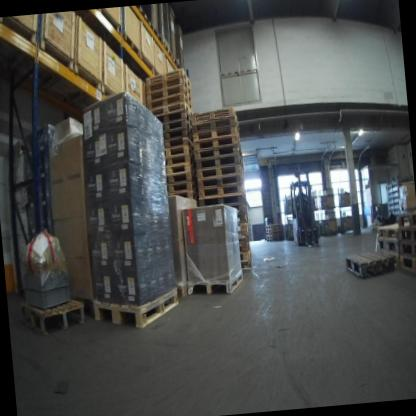forklift: (285, 163, 321, 251)
pallet: (92, 284, 183, 335), (17, 292, 90, 339), (345, 247, 395, 282), (187, 272, 248, 300), (144, 75, 192, 100), (146, 70, 192, 93), (147, 93, 193, 114), (191, 107, 239, 127), (198, 181, 246, 199), (146, 87, 192, 105), (194, 120, 240, 138), (196, 144, 242, 162), (194, 136, 242, 153), (156, 100, 193, 122), (195, 155, 244, 171), (197, 165, 246, 181), (193, 127, 241, 143), (197, 174, 244, 190), (200, 194, 247, 210), (157, 109, 193, 129), (174, 278, 198, 305), (164, 159, 197, 178), (132, 6, 154, 34), (162, 127, 194, 145), (161, 118, 192, 136), (377, 237, 401, 260), (122, 32, 141, 61), (375, 222, 402, 242), (164, 139, 195, 155), (167, 181, 198, 197), (164, 154, 196, 169), (166, 170, 198, 185), (165, 147, 196, 162), (397, 210, 416, 228), (399, 241, 416, 260), (399, 257, 416, 276), (398, 227, 416, 241), (153, 25, 164, 45), (181, 190, 198, 202), (162, 41, 171, 60), (235, 204, 248, 217), (241, 259, 254, 272), (238, 223, 250, 237), (238, 234, 252, 245), (170, 54, 179, 70), (239, 214, 251, 226), (239, 241, 250, 253), (392, 255, 402, 268), (264, 223, 282, 230), (239, 252, 252, 261), (265, 230, 282, 236), (266, 233, 283, 239), (266, 237, 283, 243), (265, 226, 282, 231)
stillage: (318, 209, 340, 241), (318, 185, 336, 212), (338, 209, 356, 234), (340, 185, 356, 209), (281, 195, 296, 220), (282, 217, 296, 240), (314, 188, 320, 211)
